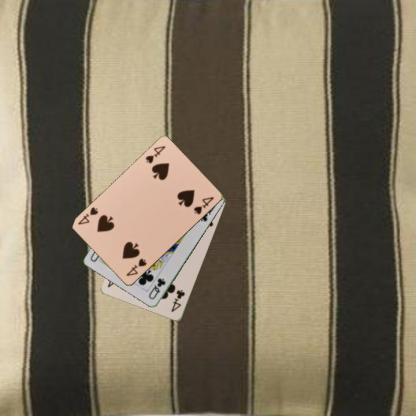4c: (169, 287, 186, 313)
4s: (143, 143, 167, 165), (124, 256, 148, 277)
Qc: (146, 276, 167, 301)
